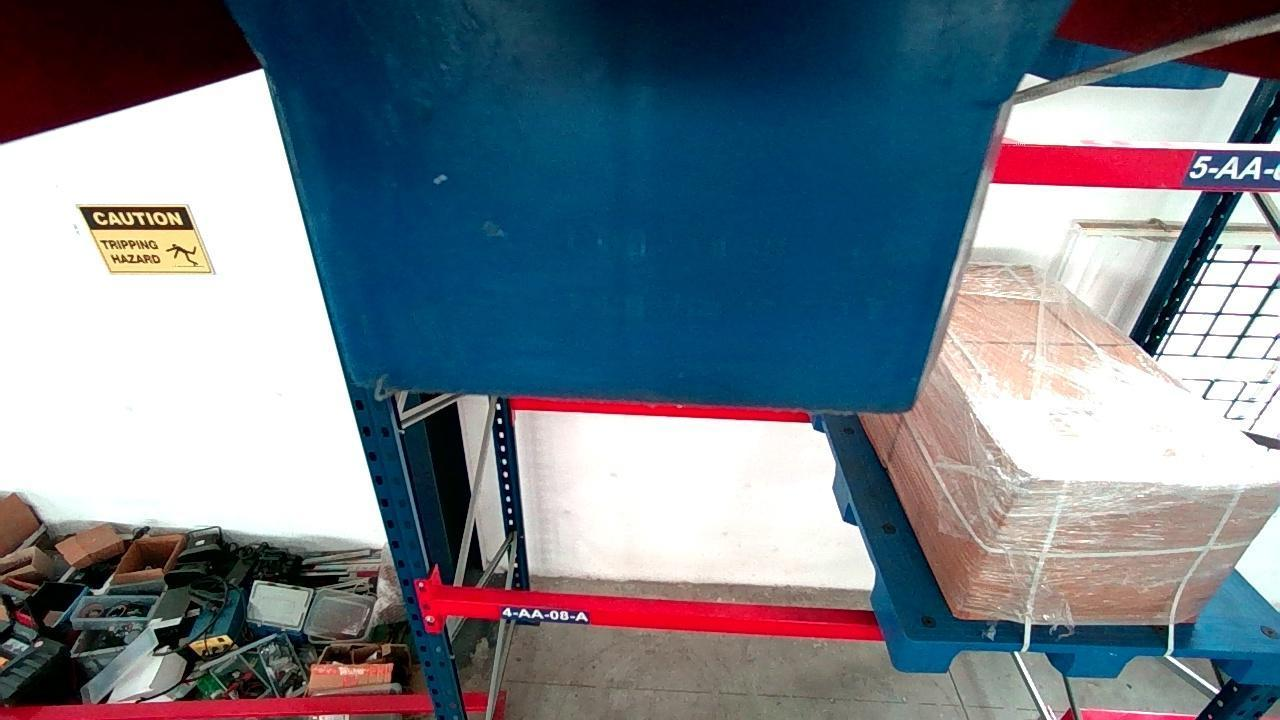h_rack: (441, 593, 882, 639), (993, 143, 1280, 190)
small_pallet: (902, 639, 1280, 687)
